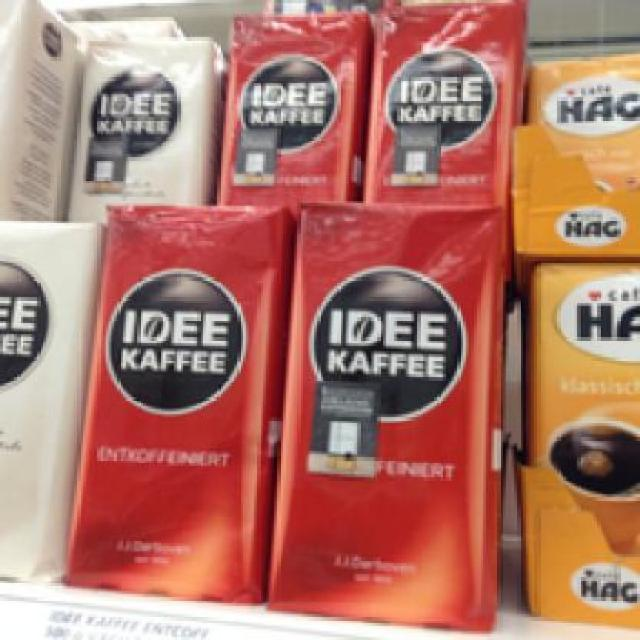Coffee: (266, 196, 508, 630), (66, 197, 286, 603), (363, 2, 520, 198), (65, 29, 218, 218), (214, 3, 357, 200)
